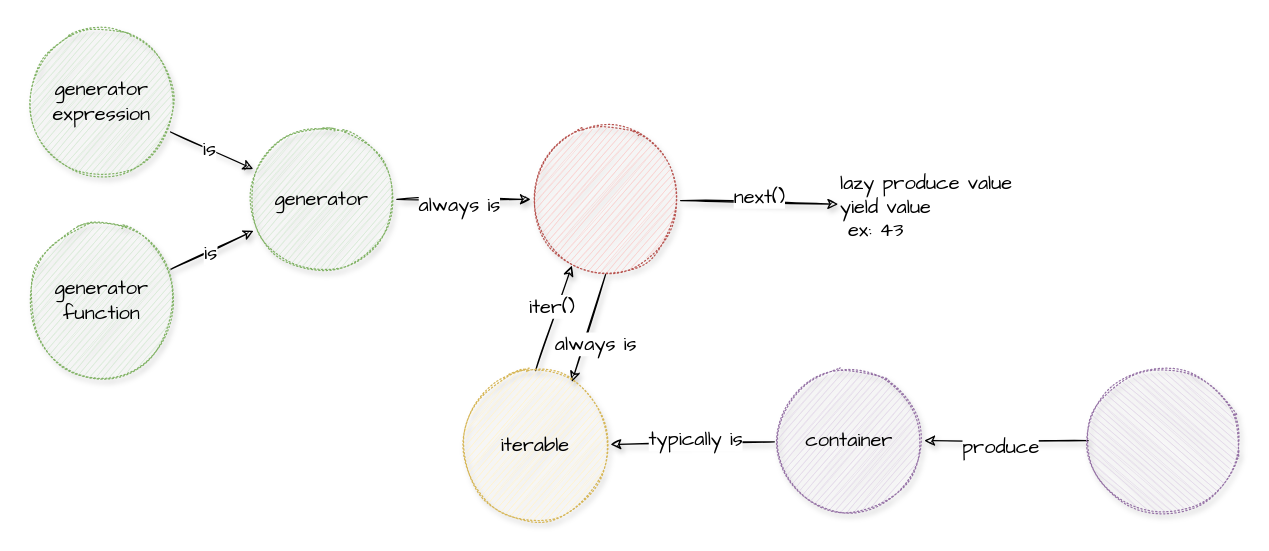
Image size: 1269x551. Some labels were removed from this diagram. Each missing label, with the centre of its shape:
iterator: (x=606, y=200)
{list, set, dict} comprehension: (x=1163, y=442)
